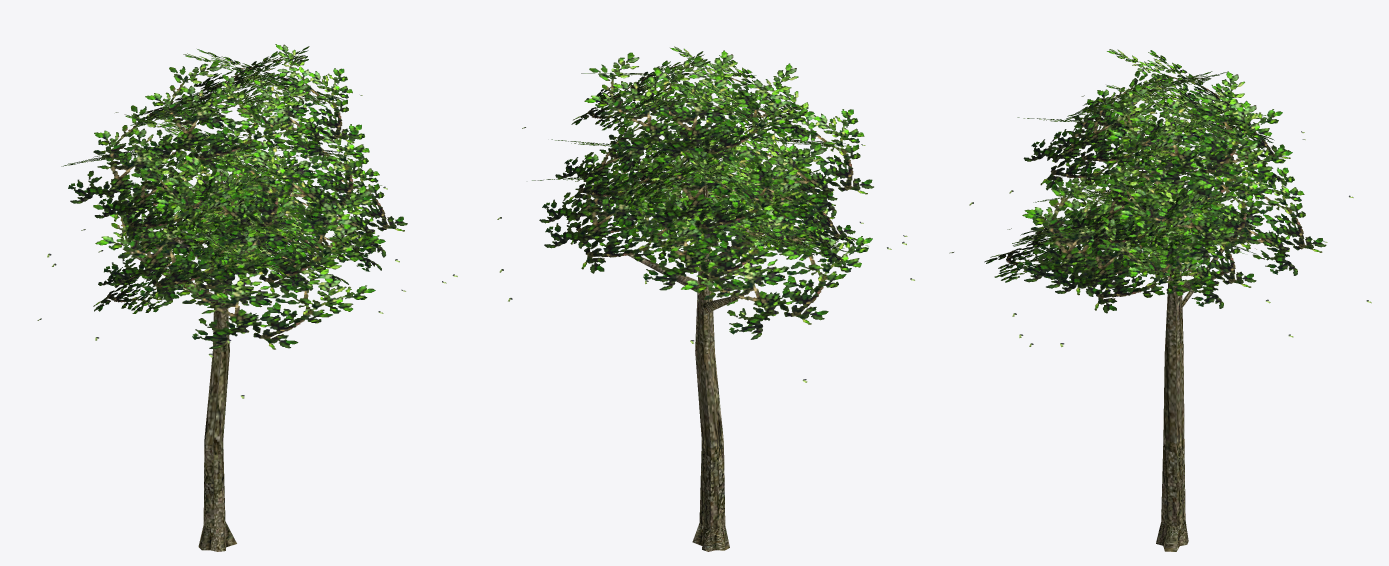
The model's file is flora_tree_toona_v3.glb.
The picture shows the model from 3 angles, left to right: view 1: azimuth 30°, elevation 25°; view 2: azimuth 150°, elevation 25°; view 3: azimuth 270°, elevation 25°; orthographic projection.
Visible parts, largest first — view 1: flora_tree_toona_v3_part1, flora_tree_toona_v3_part0; view 2: flora_tree_toona_v3_part1, flora_tree_toona_v3_part0; view 3: flora_tree_toona_v3_part1, flora_tree_toona_v3_part0.
Boxes of the visible parts, bbox=[...] form: flora_tree_toona_v3_part1: bbox=[37, 44, 457, 398]; flora_tree_toona_v3_part0: bbox=[122, 172, 294, 551]; flora_tree_toona_v3_part1: bbox=[497, 46, 914, 382]; flora_tree_toona_v3_part0: bbox=[627, 176, 793, 551]; flora_tree_toona_v3_part1: bbox=[949, 49, 1371, 346]; flora_tree_toona_v3_part0: bbox=[1136, 174, 1229, 551].
Size of the model in its own units: 17.66 by 22.44 by 18.27.
Materials: 2 (2 with a texture image).
